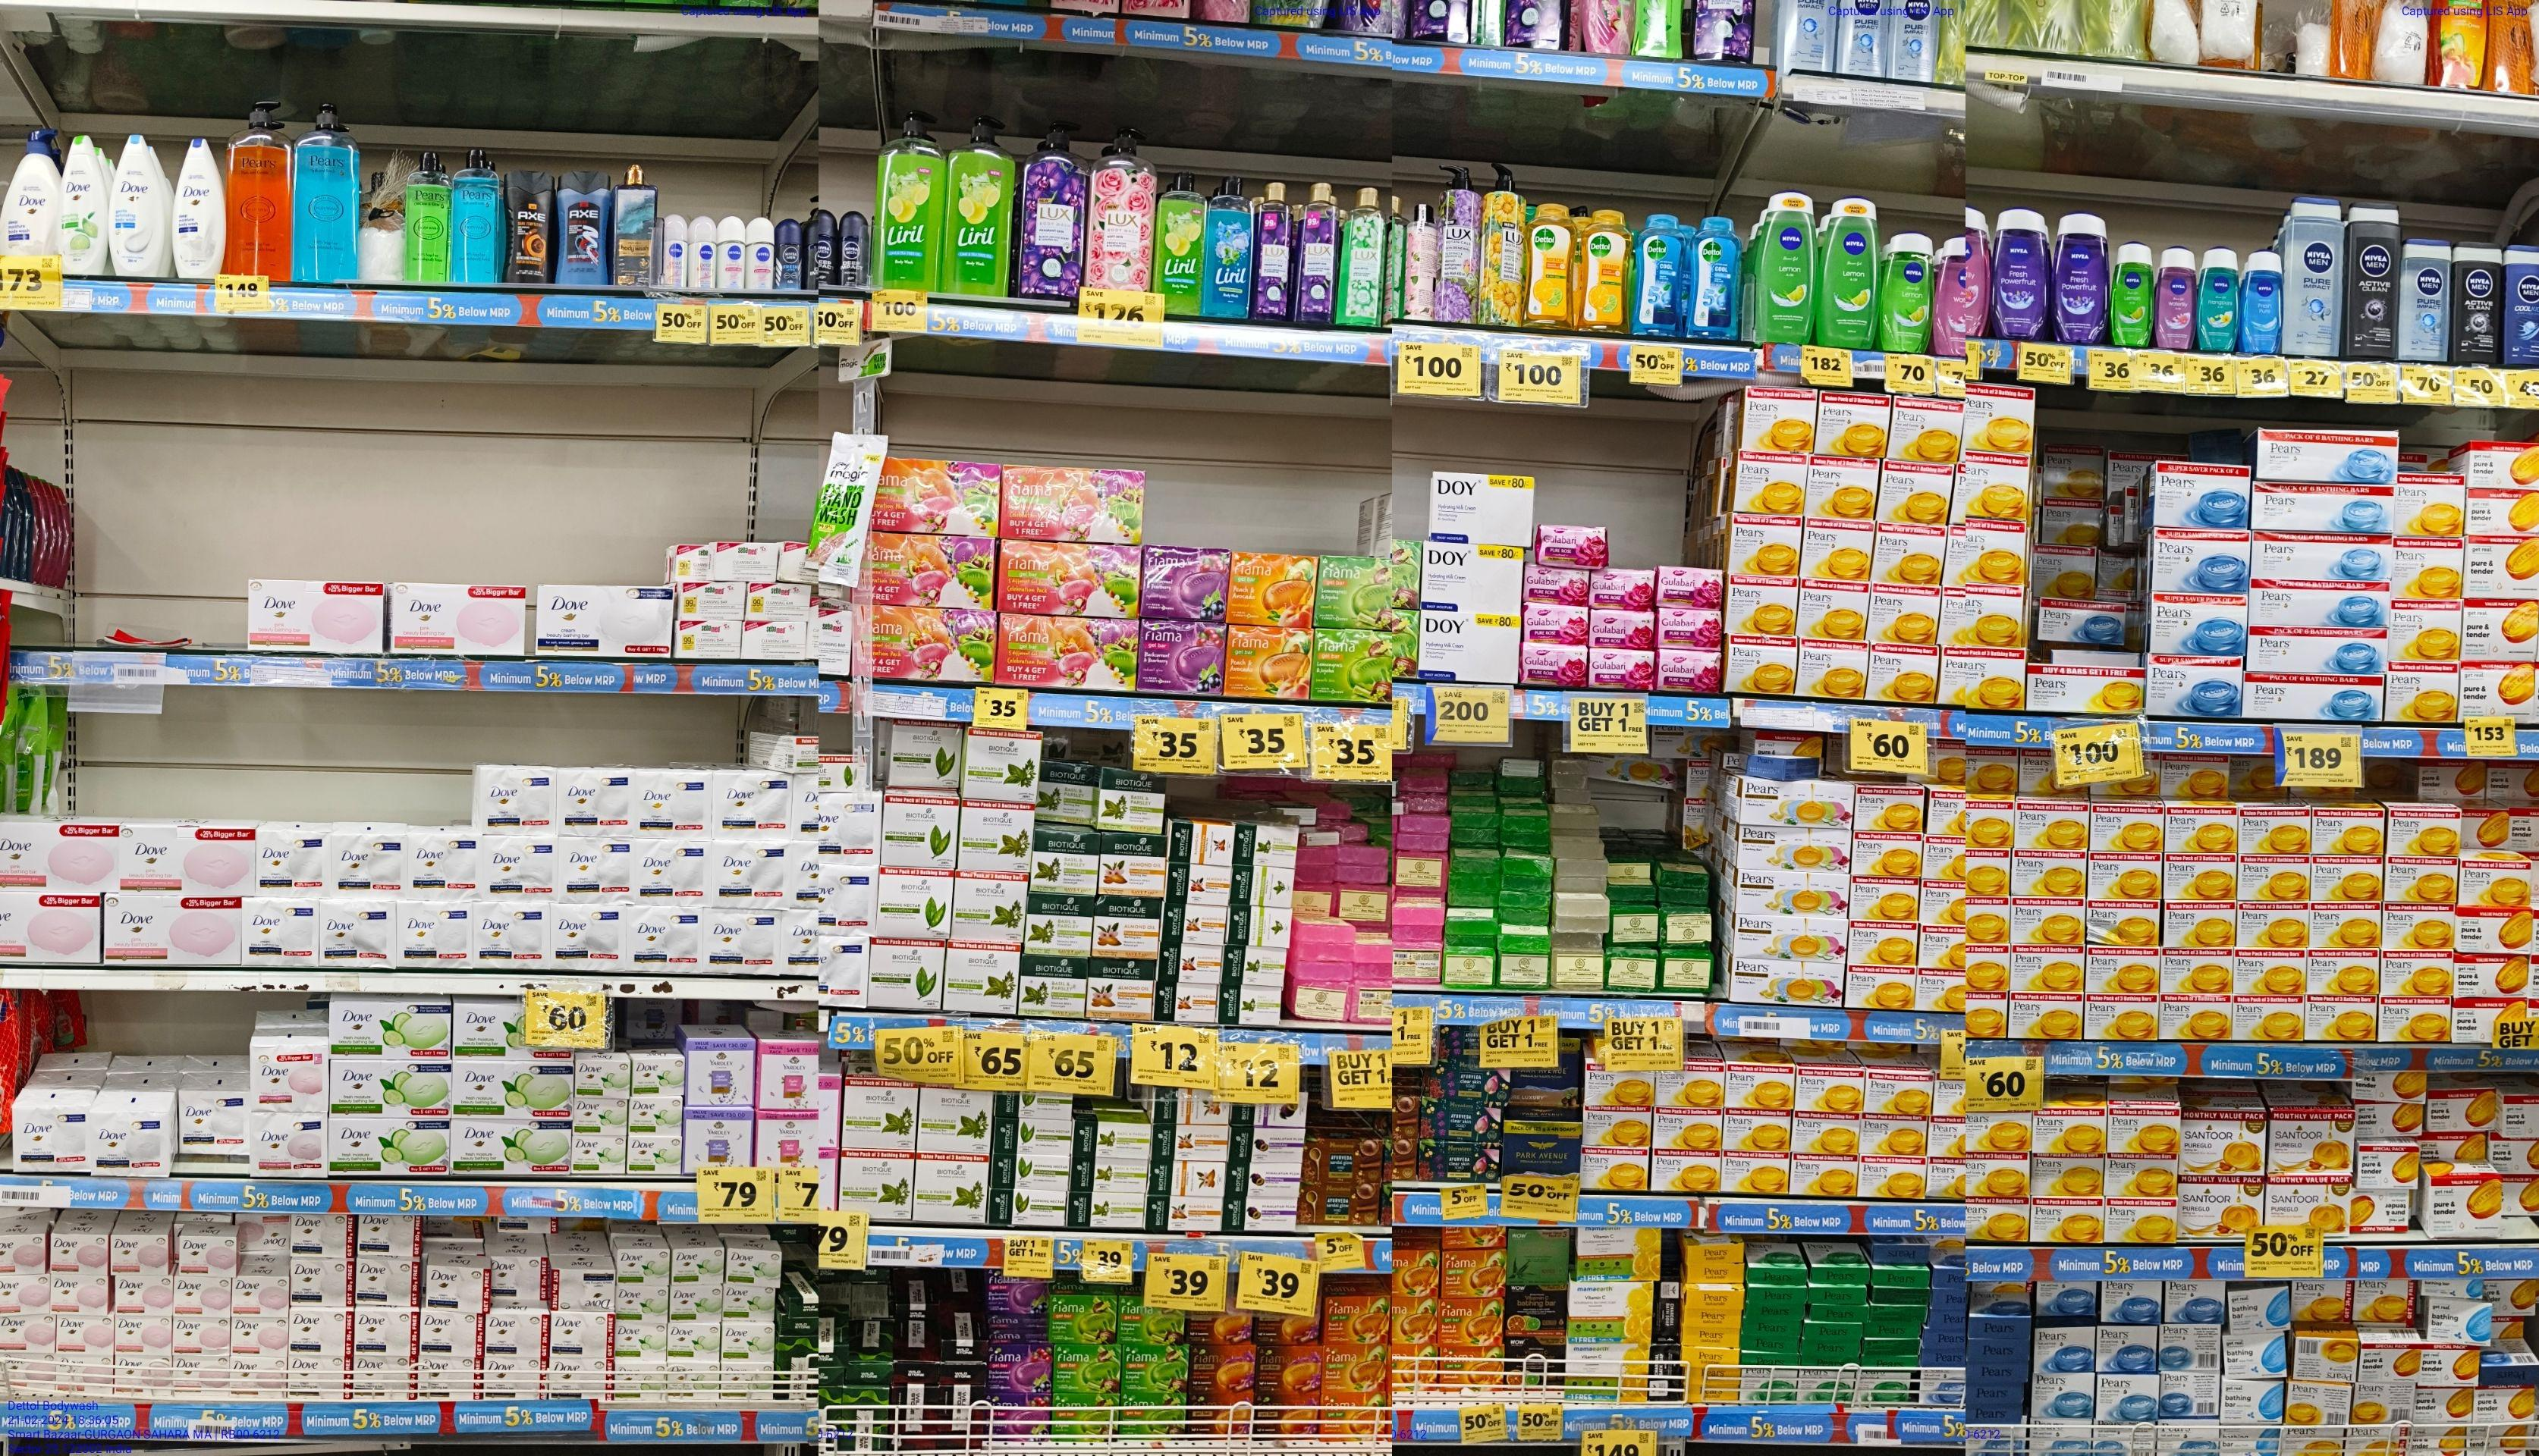Dettol_Bodywash_Cool: (1688, 213, 1740, 344), (1636, 211, 1685, 338)
Dettol_Bodywash_Refresh: (1526, 201, 1576, 333), (1582, 209, 1630, 335)
Dove_Deep_Moisture_Body_Wash_250ML: (173, 136, 221, 277)
Dove_Gentle_Exfoliating_Body_Wash_250ML: (112, 131, 166, 277)
Dove_Refreshing_Body_Wash_250ML: (61, 134, 106, 277)
Liril_Cooling_Mint_Body_Wash_250ML: (1207, 173, 1250, 317)
Liril_Lime_and_Tea_Tree_Oil_Body_Wash_250ML: (1160, 169, 1203, 314)
Lux_Black_Orchid_Scent_and_Juniper_Oil_Body_Wash_245ML: (1299, 181, 1338, 324), (1256, 181, 1290, 321)
Lux_Body_Wash_Skin_Detox_Freesia_Scent_and_Alove_Vera_245ML: (1341, 187, 1386, 328)
Nivea_Shower_Gel_Lemon_and_Oil_250ML: (1819, 190, 1878, 349), (1761, 190, 1817, 344), (1885, 232, 1932, 354)
Pears_Pure_Glycerin_and_Mint_Extracts_Body_Wash_250ML: (453, 146, 502, 288)
